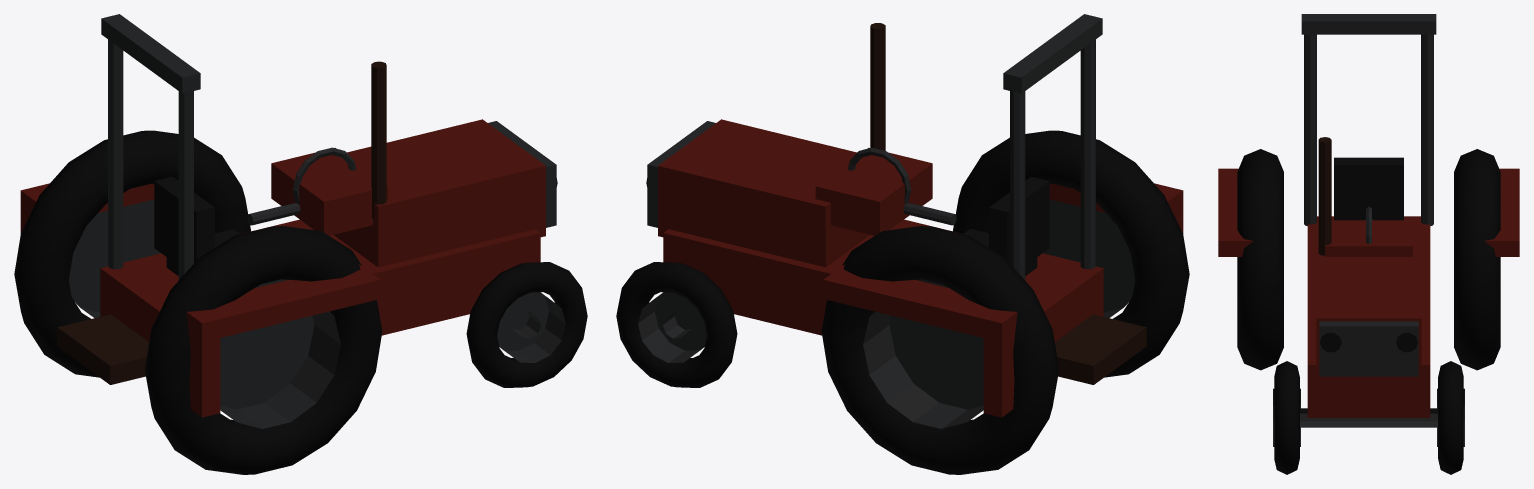
Rendered from TRACTOR.dae.
3 views of the same model, side by side, from view 1: azimuth 30°, elevation 25°; view 2: azimuth 150°, elevation 25°; view 3: azimuth 270°, elevation 25° (orthographic). The views are drawn at different scales.
Visible parts, largest first — view 1: TRACTOR; view 2: TRACTOR; view 3: TRACTOR.
Boxes of the visible parts, x1,y1,x2,y2 form: TRACTOR: (14, 14, 587, 474); TRACTOR: (616, 14, 1189, 474); TRACTOR: (1218, 14, 1519, 474).
Bounding box in the file's own units: 2.98 × 2.06 × 2.43.
